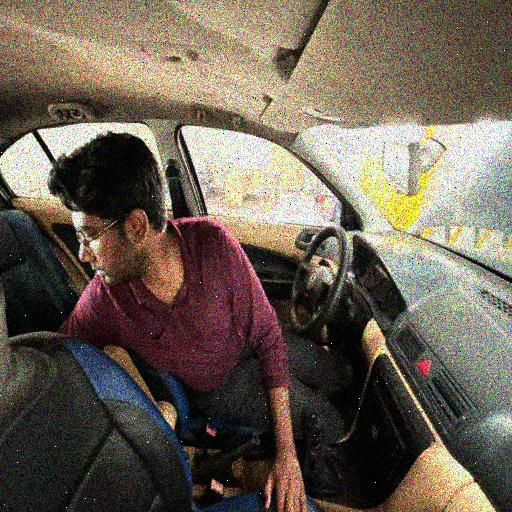Reaching_behind: (32, 129, 317, 418)
